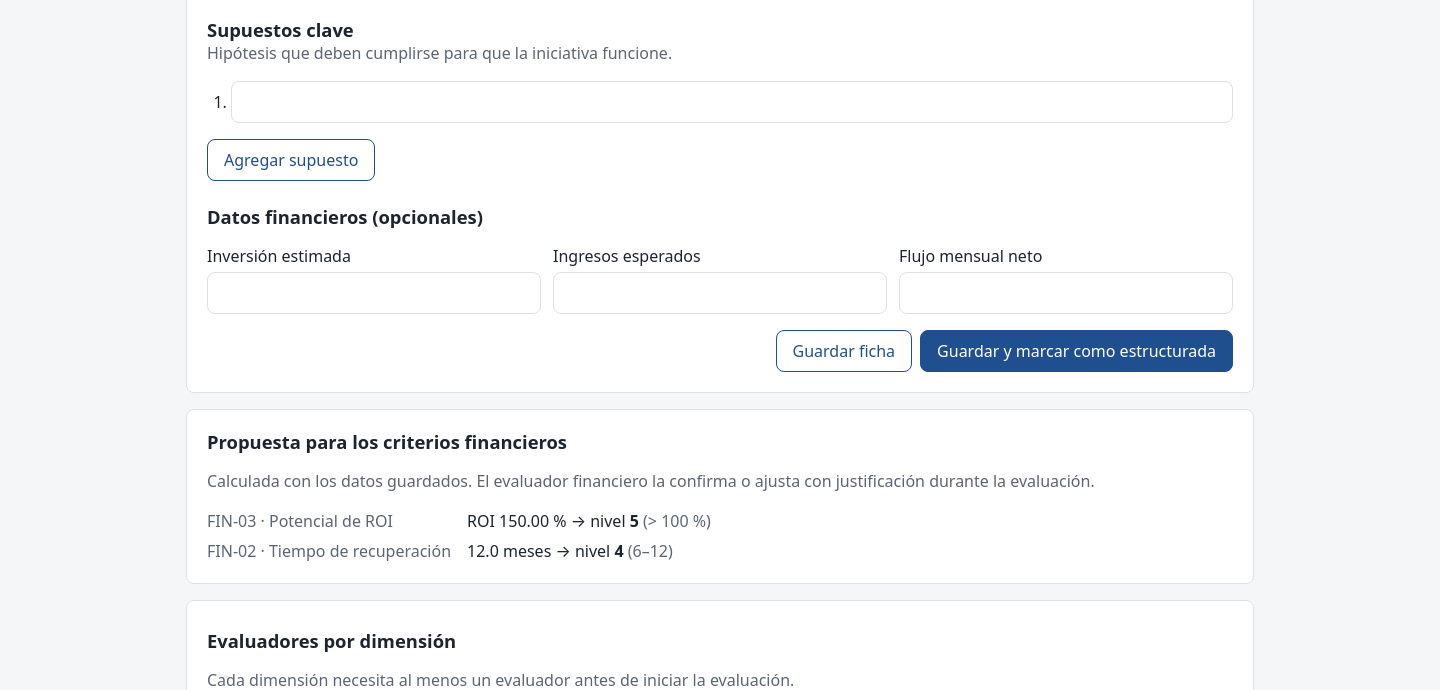
Test: estructurar con éxito informa y cambia el estado
This screenshot has width=1440, height=690.
(page scrolled)
Click the button "Guardar y marcar como estructurada" at (1077,351), box 920,330 -> 1233,372
(page scrolled)
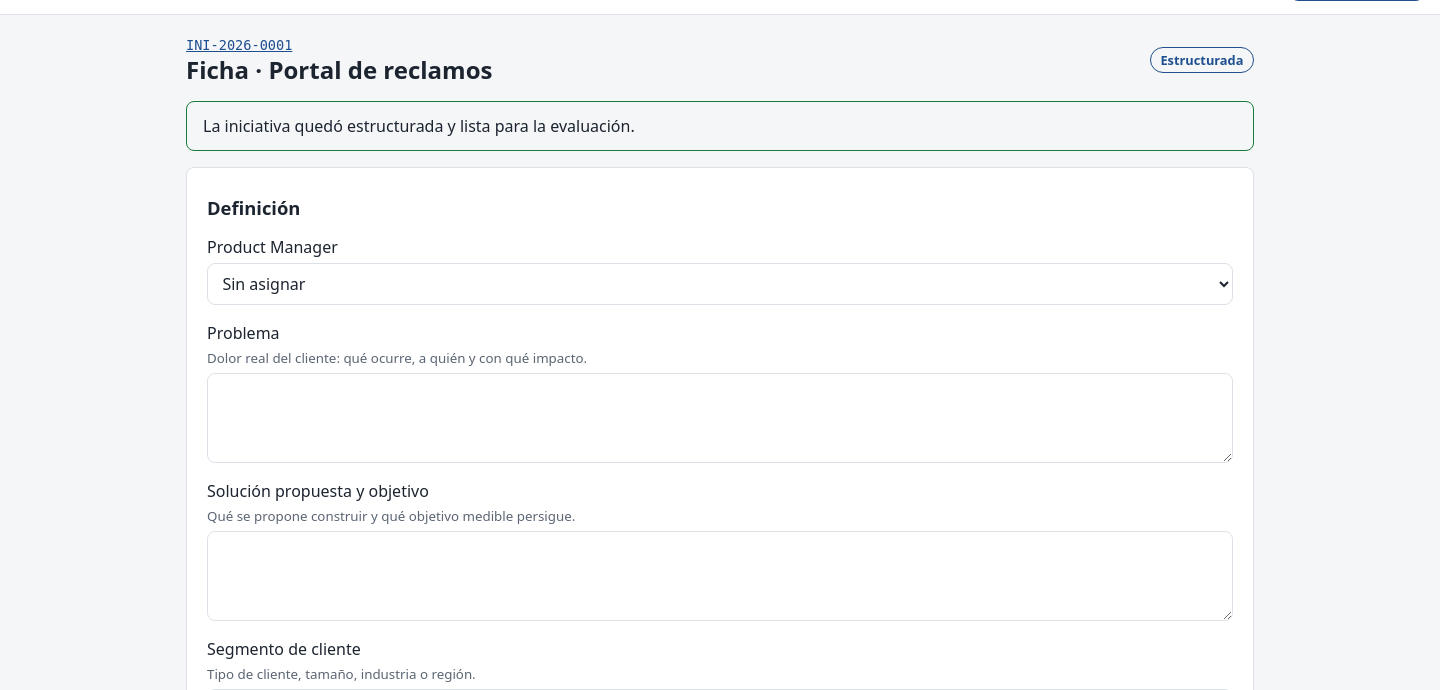
expect the message shows "quedó estructurada": met, box 203,115 -> 635,137
expect the text "Estructurada" is shown: met, box 1150,47 -> 1254,73
